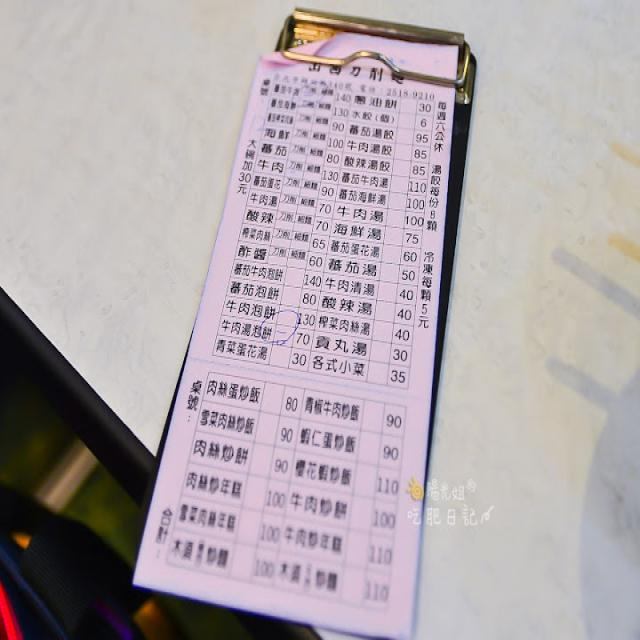paper: (141, 46, 448, 640)
